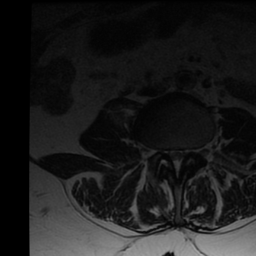CCS_normal: (172, 143, 180, 181)
LFS_severe_stenosis: (187, 142, 194, 162)
LLS_stenosis: (179, 143, 186, 162)
RFS_severe_stenosis: (159, 142, 167, 162)
RLS_severe_stenosis: (167, 143, 173, 163)
